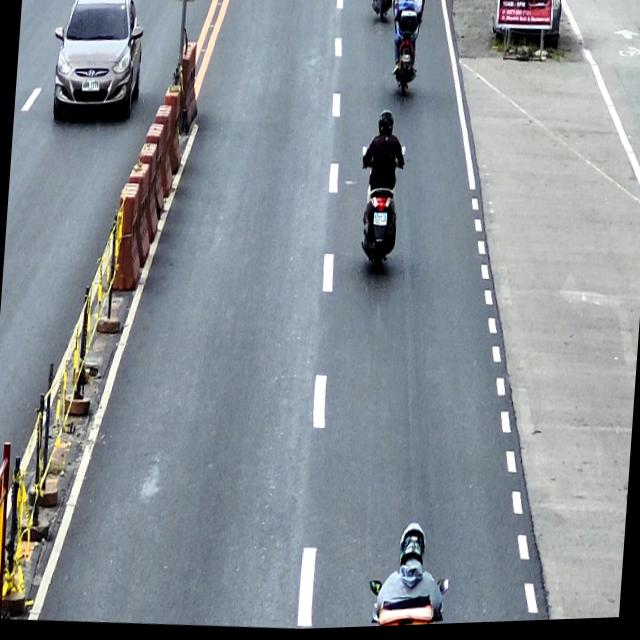Car: (48, 0, 146, 128)
License-Plate: (80, 79, 100, 93), (372, 214, 388, 229), (400, 56, 410, 66)
Motorcycle: (354, 145, 404, 276), (388, 5, 422, 101), (370, 0, 392, 26)
